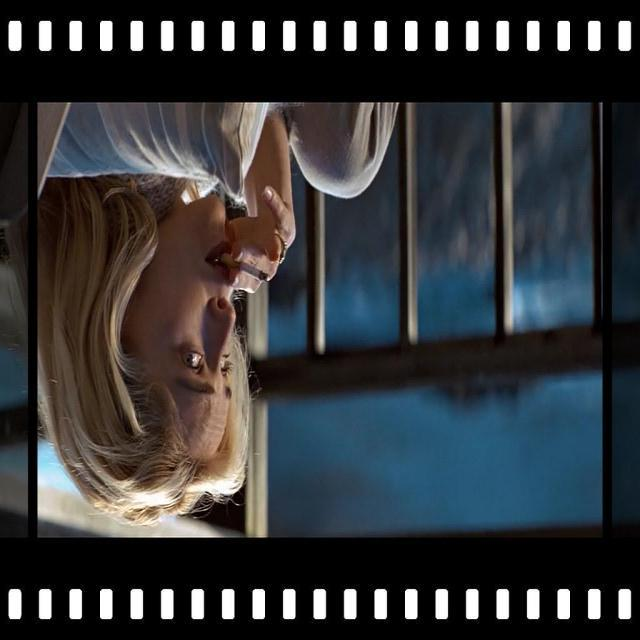cigarette: (204, 217, 279, 309)
